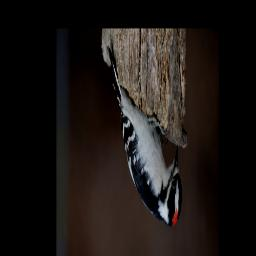Woodpecker: (106, 42, 183, 230)
